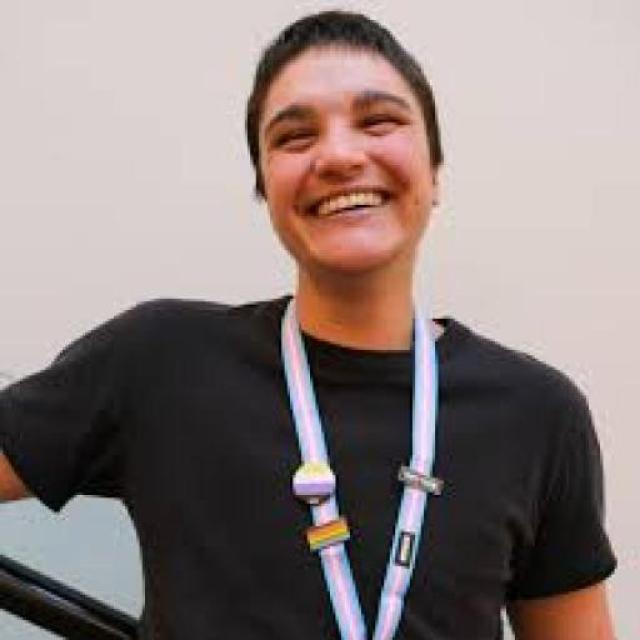id_card: (285, 272, 444, 640)
